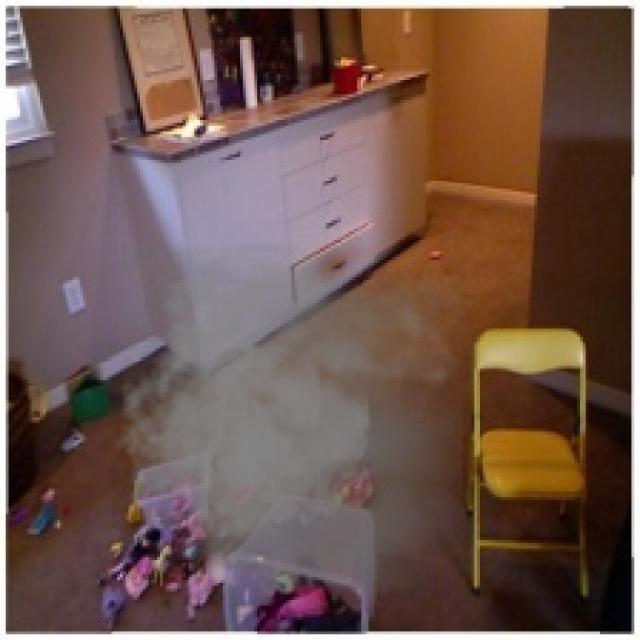Smoke: (111, 242, 463, 594)
